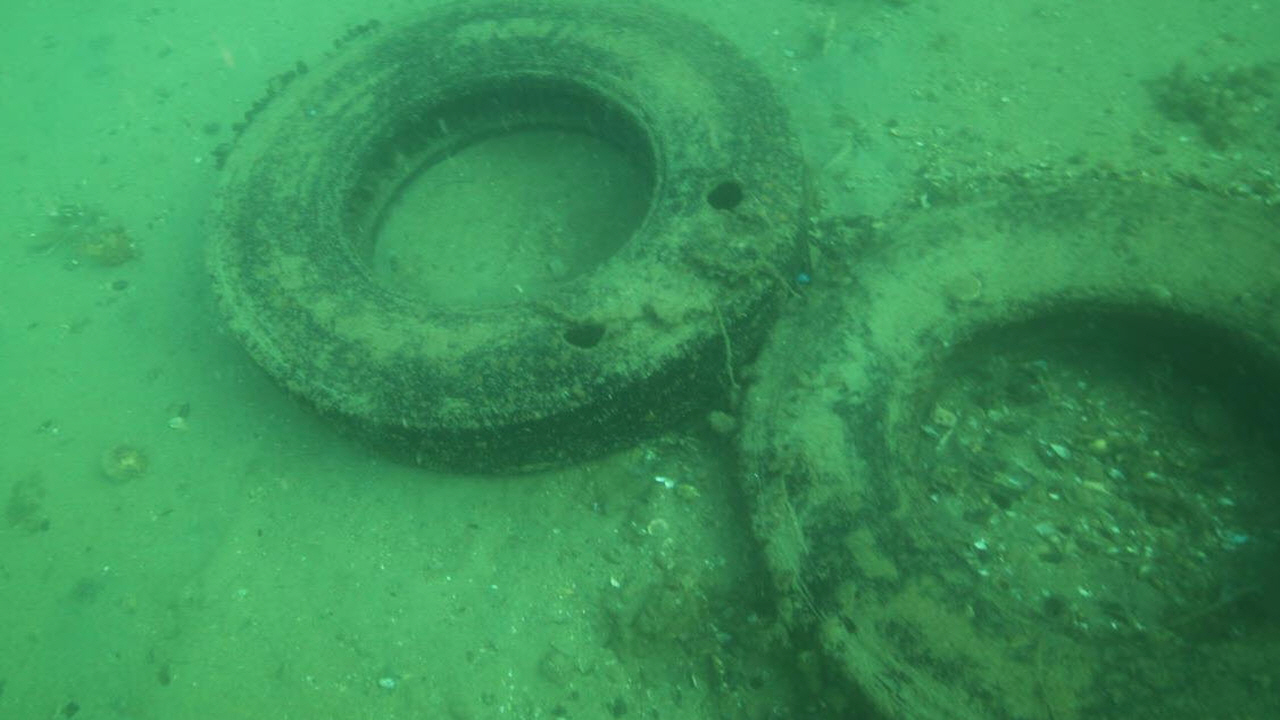tire: (737, 178, 1280, 720), (205, 1, 807, 477)
